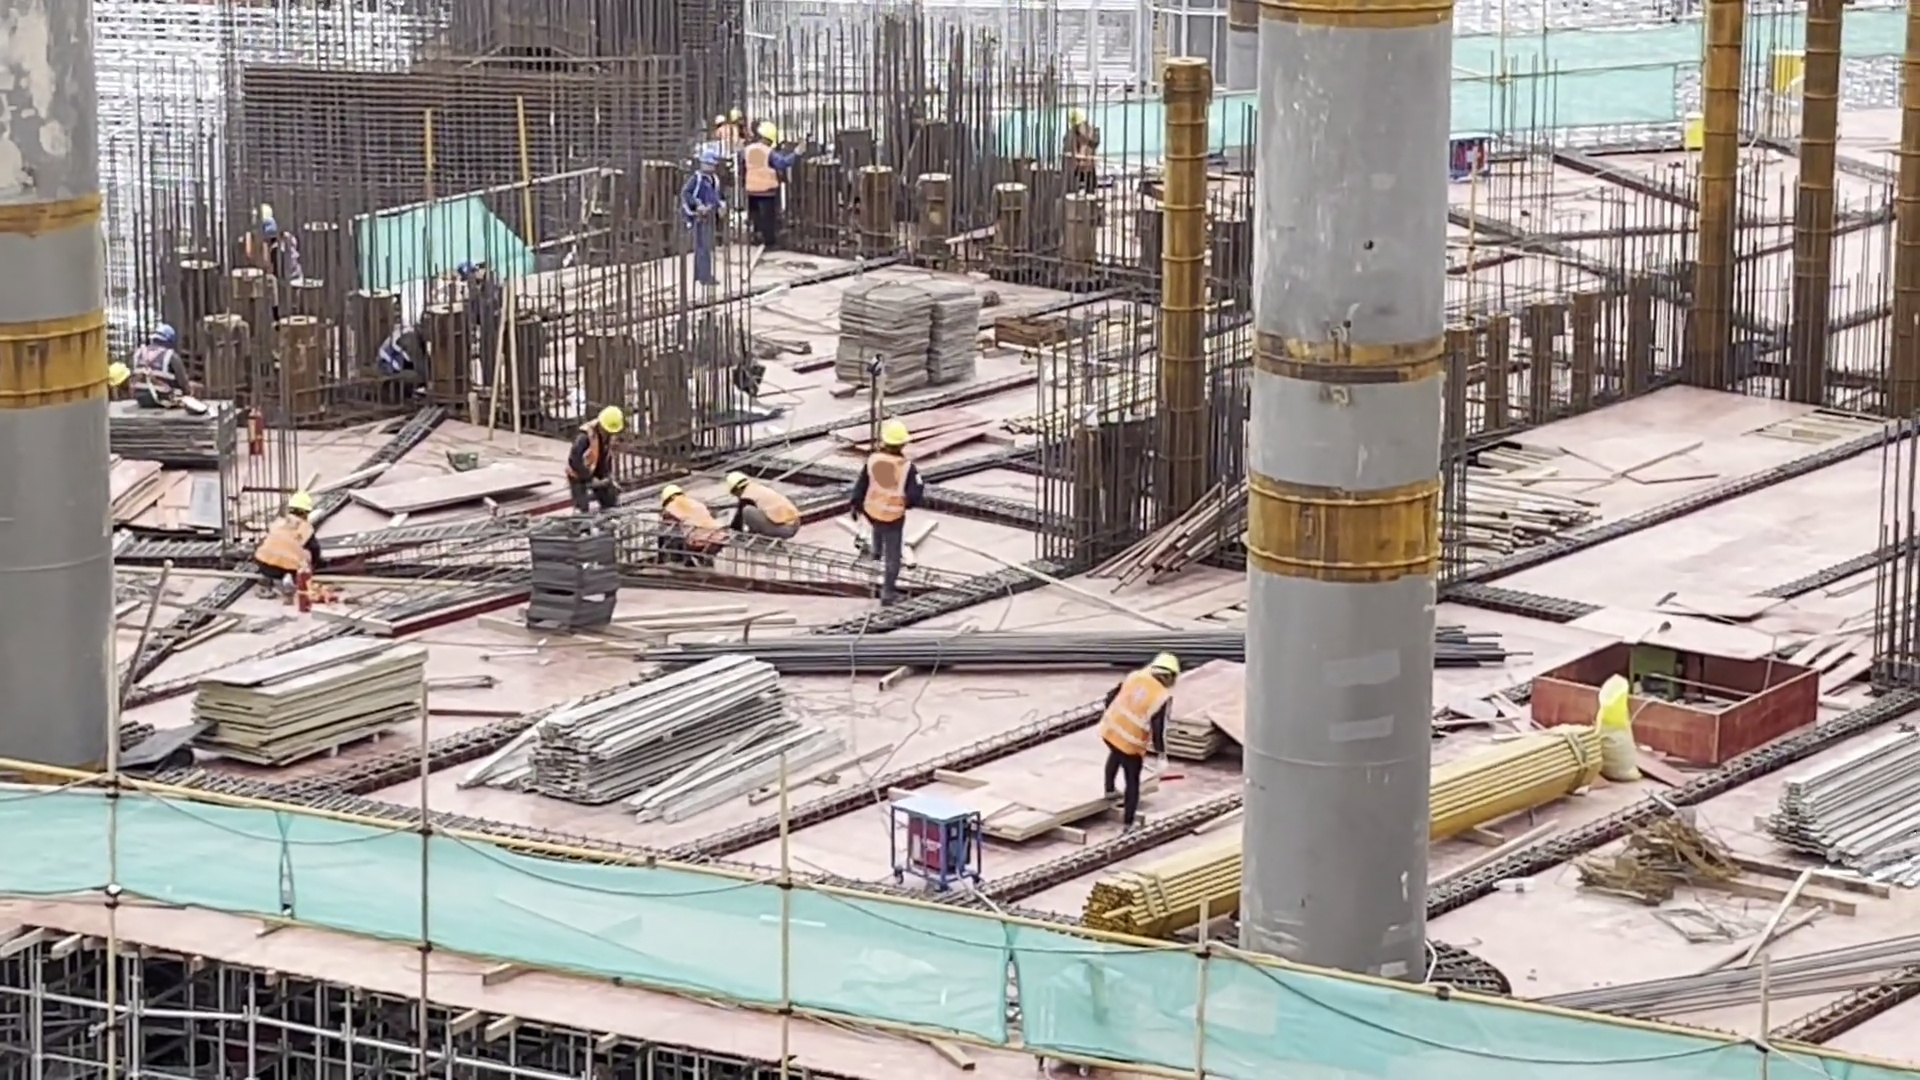board: (186, 632, 429, 765), (1164, 654, 1242, 766)
helmet: (879, 416, 912, 446), (598, 403, 626, 436), (147, 320, 177, 345), (1151, 651, 1183, 674), (109, 358, 129, 388), (287, 489, 313, 513), (757, 118, 778, 143), (726, 472, 747, 494), (659, 483, 681, 502), (699, 150, 721, 168)
person: (1098, 652, 1186, 830), (849, 414, 922, 608), (733, 119, 808, 236), (255, 479, 322, 594), (568, 399, 631, 516), (657, 474, 729, 563), (728, 463, 806, 541), (675, 148, 724, 272), (122, 316, 188, 408), (708, 110, 740, 146)
vest: (1104, 673, 1172, 756), (864, 451, 917, 524), (254, 514, 317, 570), (666, 497, 727, 548), (570, 426, 615, 482), (134, 343, 177, 399), (746, 484, 805, 523), (681, 174, 726, 223), (743, 143, 784, 194)
wood: (1466, 474, 1604, 557)
